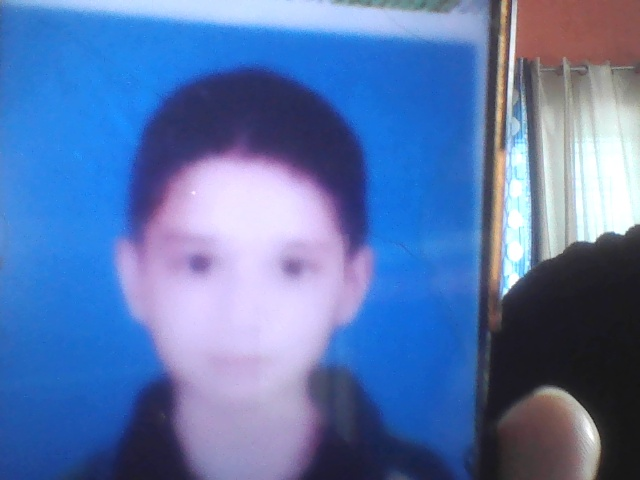fake: (123, 79, 373, 434)
